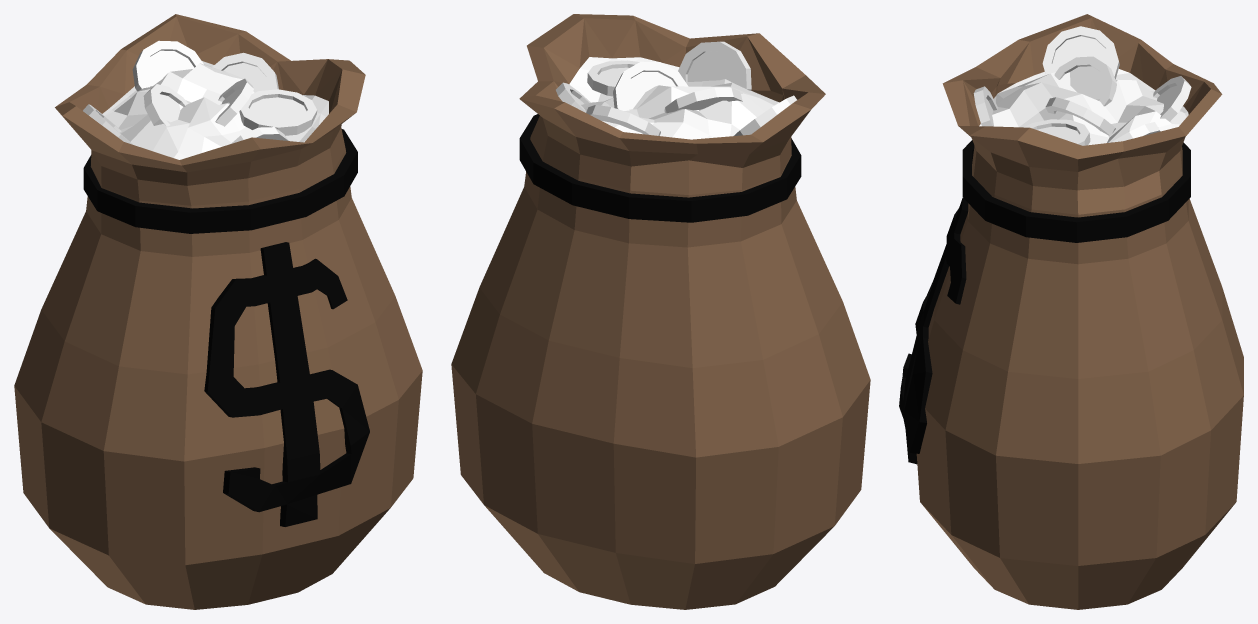
File: PP_Money_Bag_04.fbx
3 views of the same model, side by side, from view 1: azimuth 30°, elevation 25°; view 2: azimuth 150°, elevation 25°; view 3: azimuth 270°, elevation 25° (orthographic). The views are drawn at different scales.
Visible parts, largest first — view 1: PP_Money_Bag_04; view 2: PP_Money_Bag_04; view 3: PP_Money_Bag_04.
Boxes of the visible parts, left/top/right/bottom form: PP_Money_Bag_04: left=14, top=14, right=422, bottom=609; PP_Money_Bag_04: left=451, top=14, right=870, bottom=609; PP_Money_Bag_04: left=899, top=14, right=1243, bottom=609.
Bounding box in the file's own units: 57.18 × 74.68 × 48.76.
